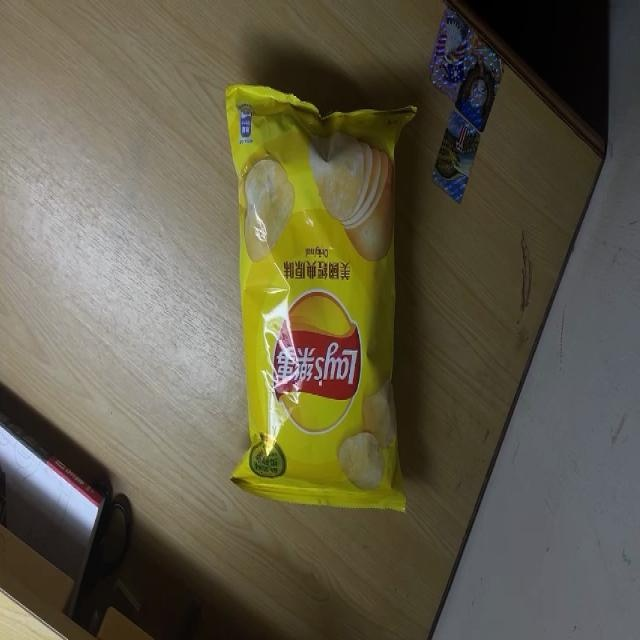Lay-s-original: (224, 77, 418, 517)
